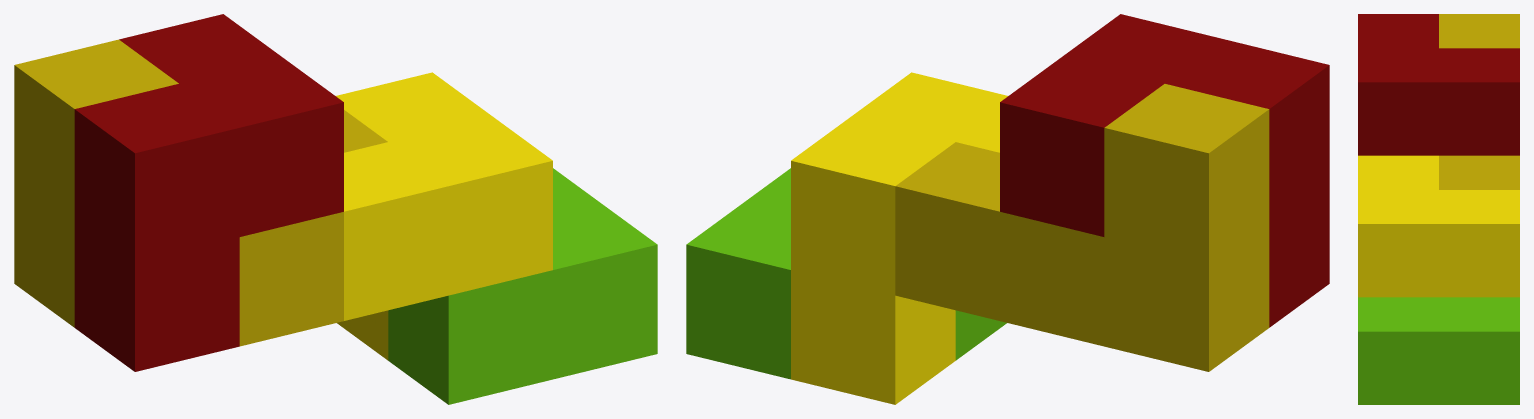
The picture shows the model from 3 angles, left to right: view 1: azimuth 30°, elevation 25°; view 2: azimuth 150°, elevation 25°; view 3: azimuth 270°, elevation 25°; orthographic projection. The views are drawn at different scales.
Visible parts, largest first — view 1: mergedBlocks(Clone); view 2: mergedBlocks(Clone); view 3: mergedBlocks(Clone).
Boxes of the visible parts, box(x1,y1,x2,y2) form: mergedBlocks(Clone): box(14, 14, 657, 404); mergedBlocks(Clone): box(686, 14, 1329, 404); mergedBlocks(Clone): box(1358, 14, 1519, 404).
Size of the model in its own units: 5 by 3 by 2.
Materials: 4 (4 with a texture image).
